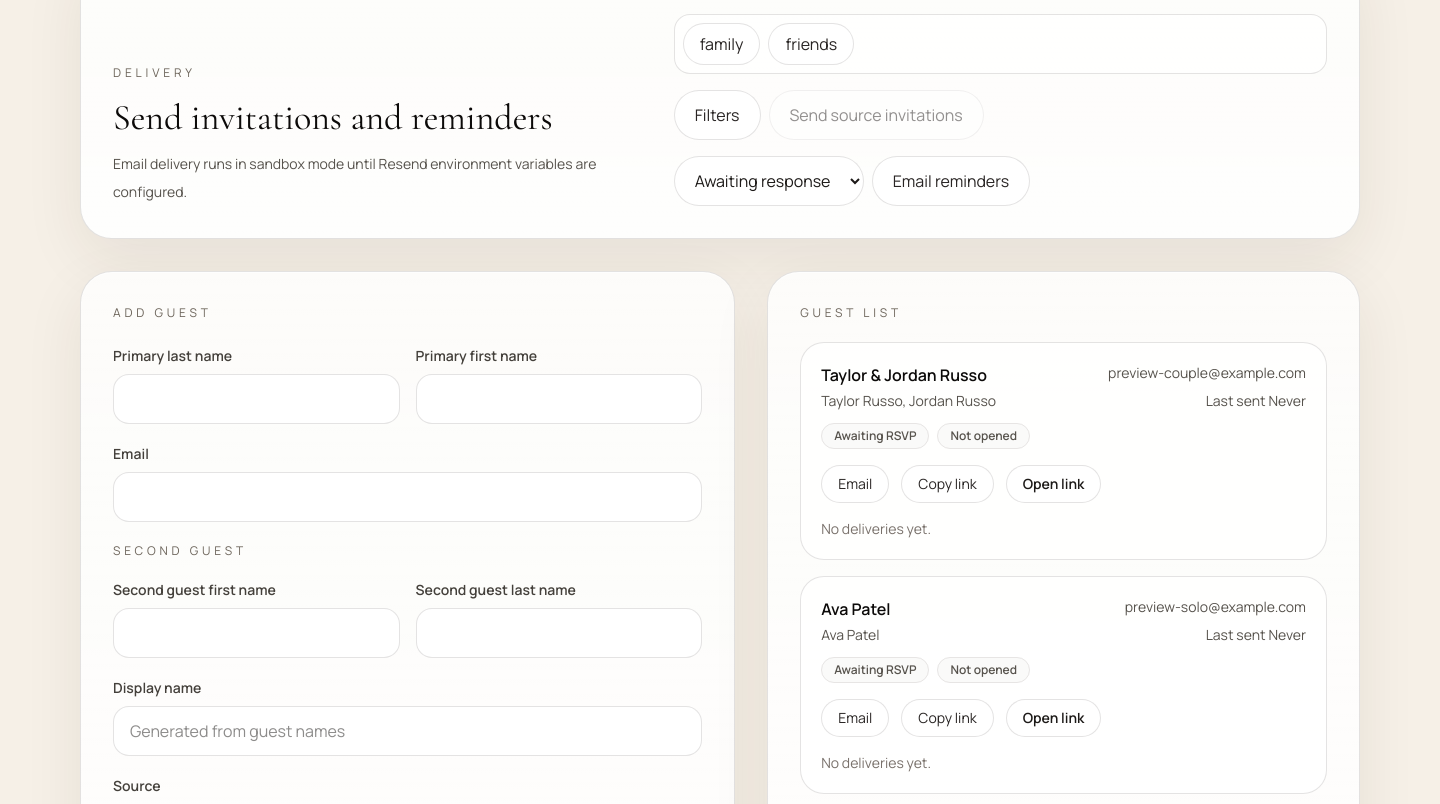
Test: HostDashboard › shows the generated display name and allows a manual override
(page scrolled)
In the field labelled "Primary first name": coordinates (559, 399) left=416, top=374, right=702, bottom=424, type "Giulia"
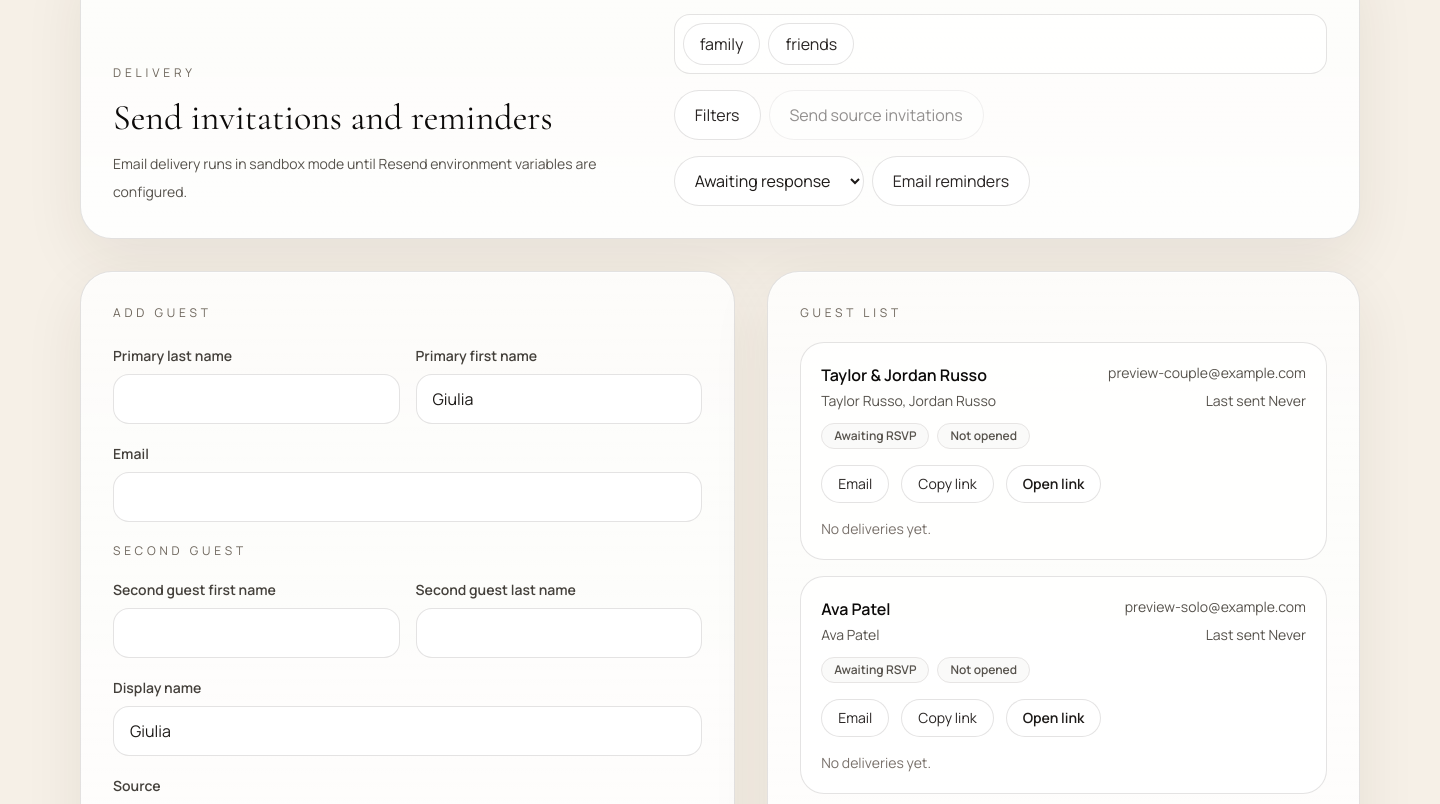
In the field labelled "Primary last name": coordinates (256, 399) left=113, top=374, right=400, bottom=424, type "Rossi"
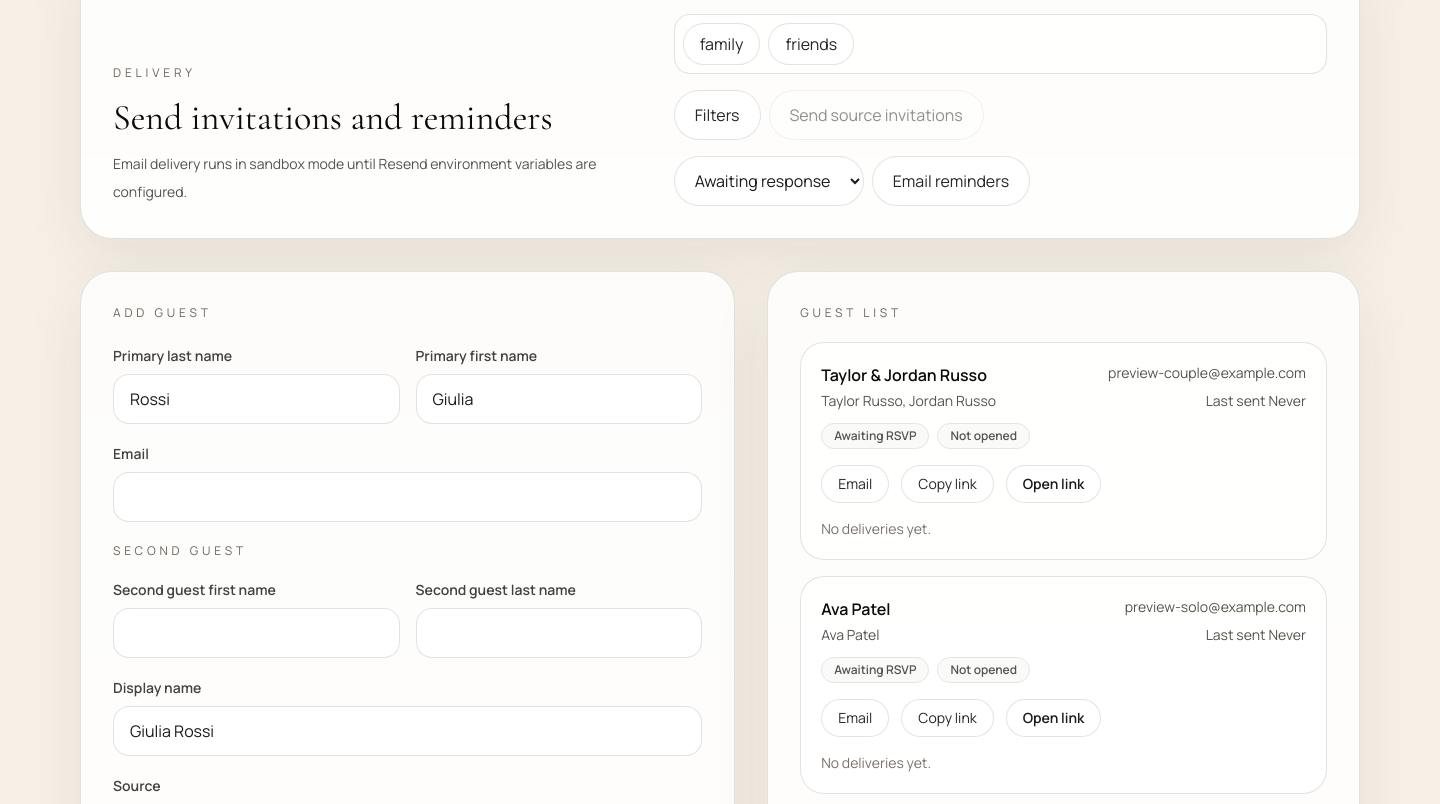
expect the field labelled "Display name" holds "Giulia Rossi": met, box left=113, top=706, right=702, bottom=756
In the field labelled "Second guest first name": coordinates (256, 633) left=113, top=608, right=400, bottom=658, type "Marco"
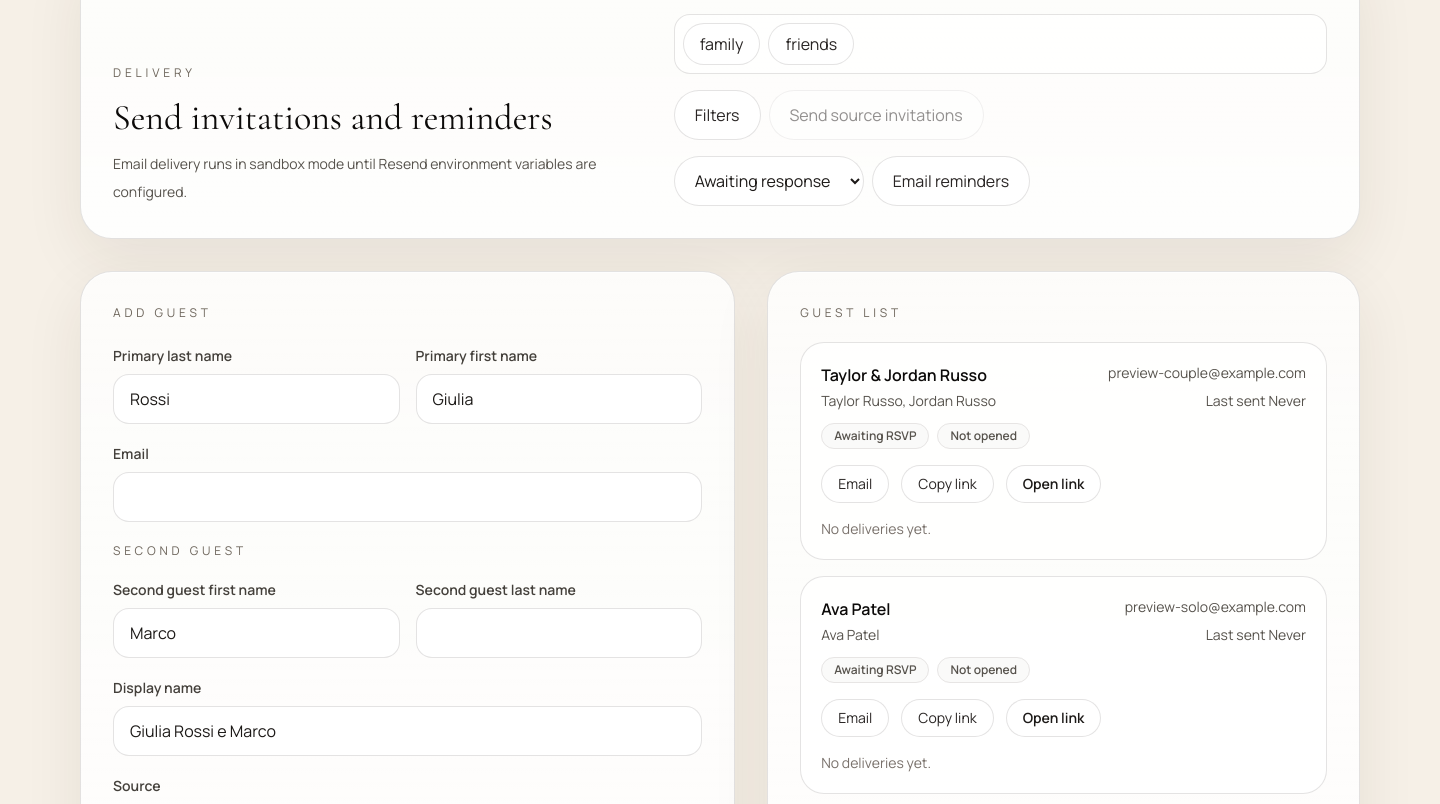
In the field labelled "Second guest last name": coordinates (559, 633) left=416, top=608, right=702, bottom=658, type "Rossi"
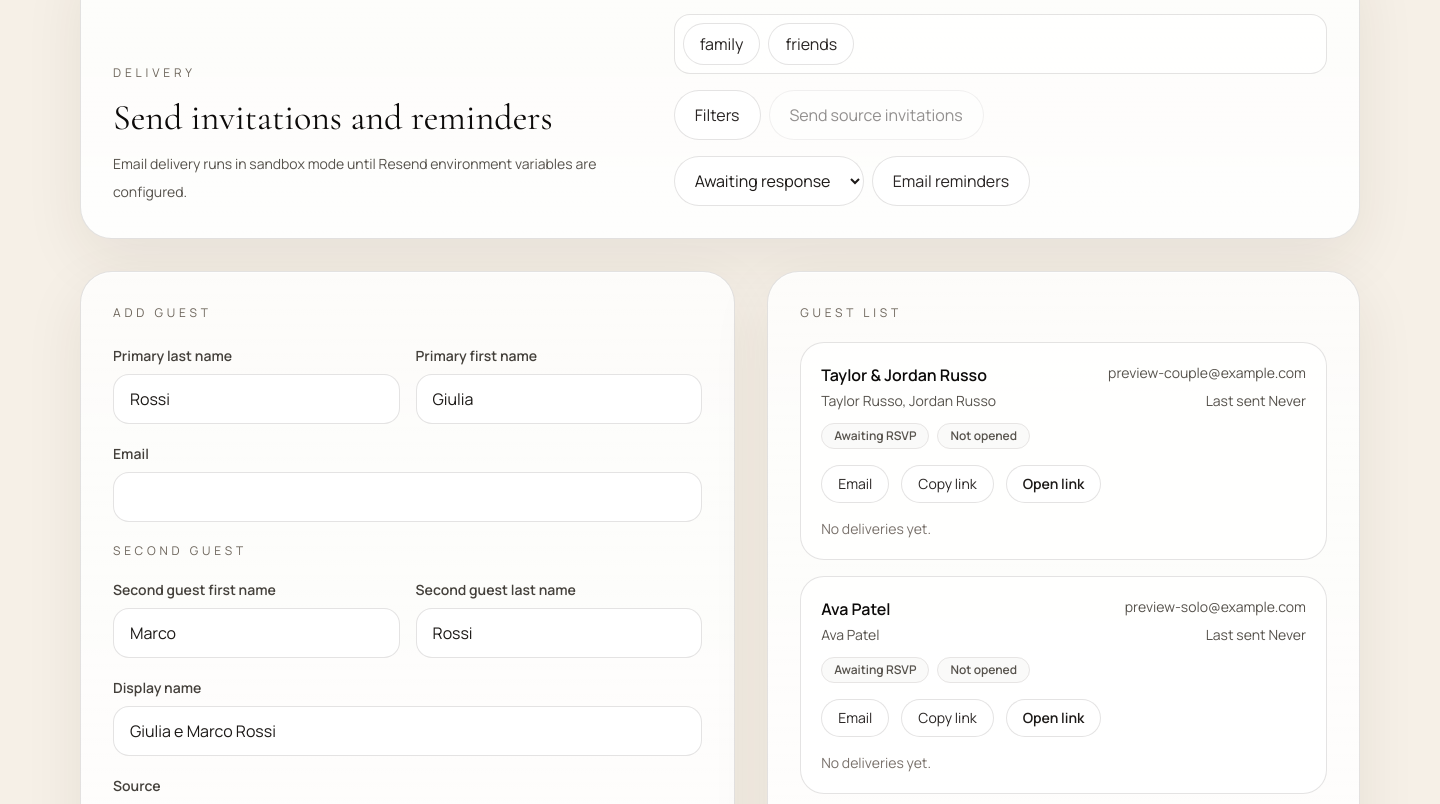
expect the field labelled "Display name" holds "Giulia e Marco Rossi": met
Replace the text in the field labelled "Display name" with "Giulia & Marco": coordinates (408, 731) left=113, top=706, right=702, bottom=756
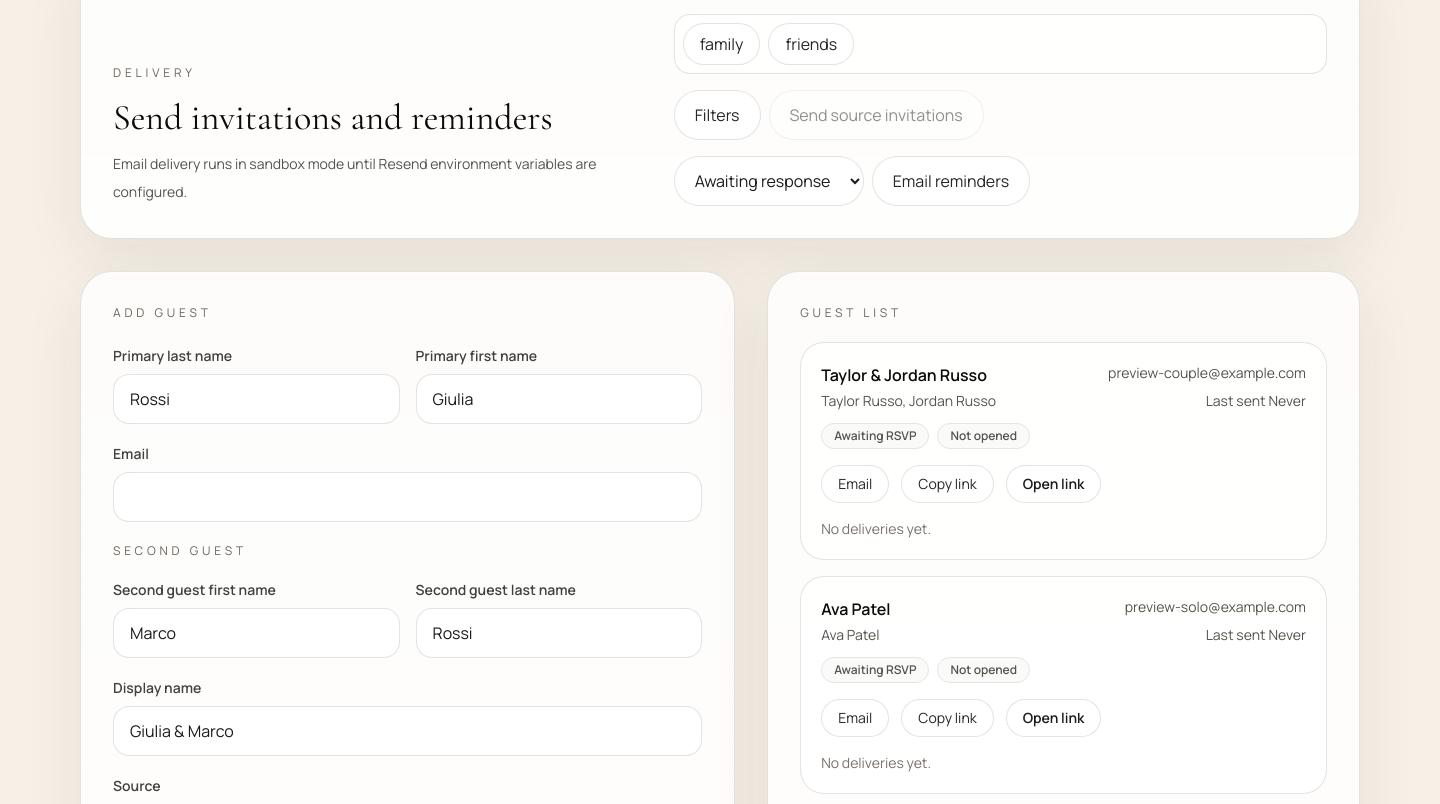
Replace the text in the field labelled "Second guest first name" with "Marcello": coordinates (256, 633) left=113, top=608, right=400, bottom=658
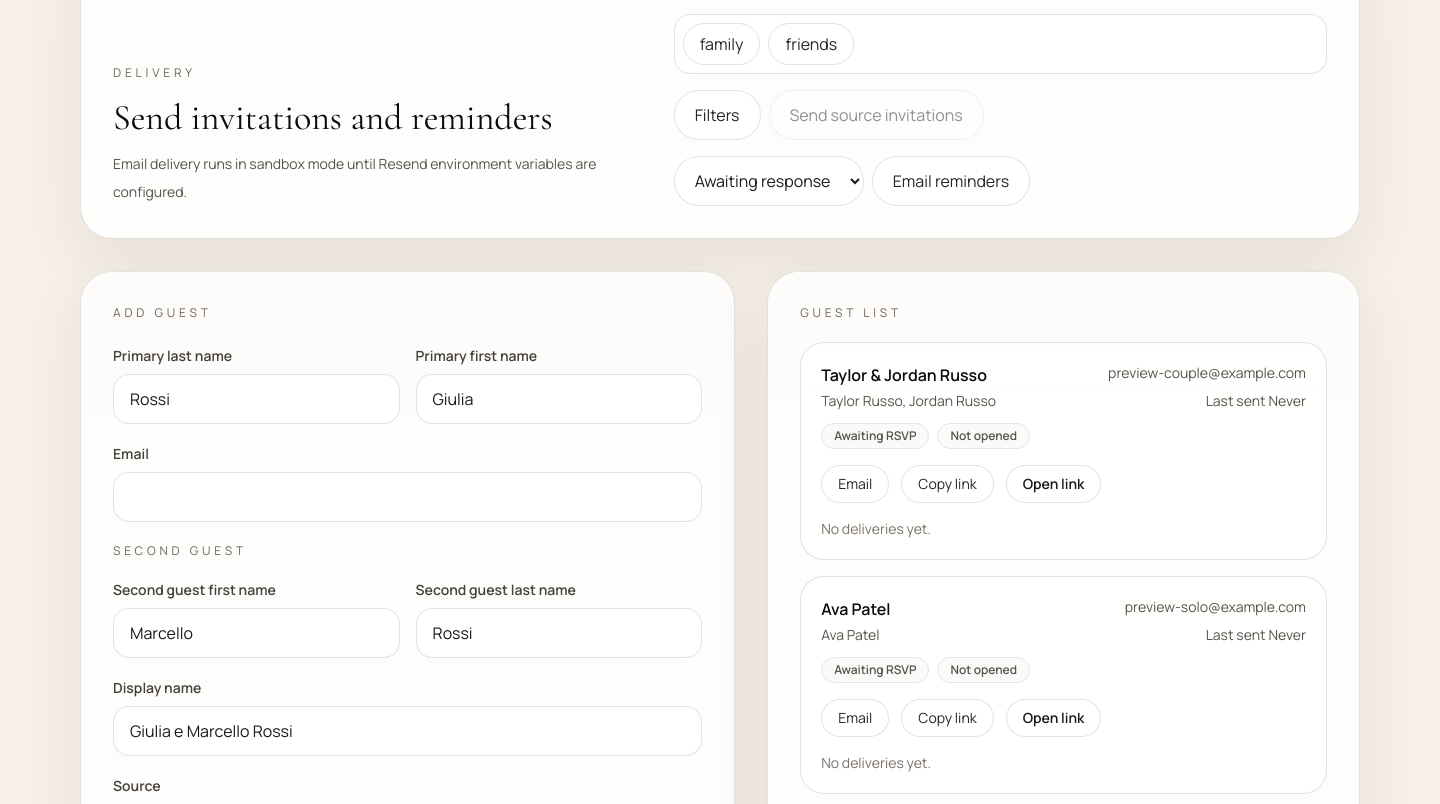
expect the field labelled "Display name" holds "Giulia e Marcello Rossi": met, box left=113, top=706, right=702, bottom=756
